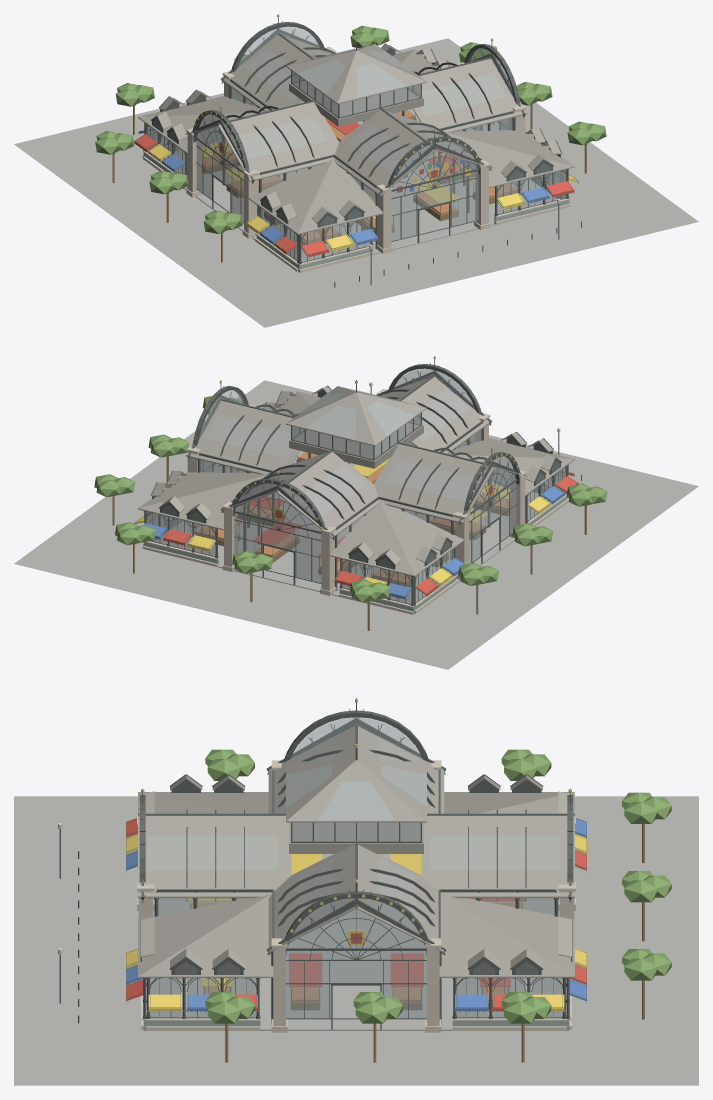
The model's file is clay-modernista-market-hall-clay-v001.glb.
The picture shows the model from 3 angles, top to bottom: view 1: azimuth 30°, elevation 25°; view 2: azimuth 150°, elevation 25°; view 3: azimuth 270°, elevation 25°; orthographic projection. The views are drawn at different scales.
Parts seen in each view (by area): view 1: CLAY_FOUNDATION, CLAY_ROOF, CLAY_GLASS, CLAY_HARDWARE, CLAY_STONE, CLAY_PLANTING, CLAY_AWNING_YELLOW, CLAY_PRODUCE, CLAY_TIMBER, CLAY_AWNING_RED, CLAY_AWNING_BLUE, CLAY_TILE; view 2: CLAY_FOUNDATION, CLAY_ROOF, CLAY_GLASS, CLAY_HARDWARE, CLAY_PLANTING, CLAY_STONE, CLAY_PRODUCE, CLAY_AWNING_RED, CLAY_TIMBER, CLAY_AWNING_YELLOW, CLAY_TILE, CLAY_AWNING_BLUE; view 3: CLAY_FOUNDATION, CLAY_ROOF, CLAY_GLASS, CLAY_HARDWARE, CLAY_PLANTING, CLAY_STONE, CLAY_AWNING_RED, CLAY_AWNING_YELLOW, CLAY_AWNING_BLUE, CLAY_TIMBER, CLAY_PRODUCE, CLAY_TILE.
Part boxes in pixels (x1,y1,x2,y2): CLAY_FOUNDATION: [14, 38, 698, 327]; CLAY_ROOF: [138, 34, 574, 234]; CLAY_GLASS: [146, 27, 566, 262]; CLAY_HARDWARE: [134, 14, 581, 287]; CLAY_STONE: [142, 46, 570, 272]; CLAY_PLANTING: [95, 25, 606, 233]; CLAY_AWNING_YELLOW: [148, 141, 578, 251]; CLAY_PRODUCE: [202, 110, 516, 242]; CLAY_TIMBER: [112, 102, 587, 262]; CLAY_AWNING_RED: [134, 117, 574, 257]; CLAY_AWNING_BLUE: [138, 129, 550, 245]; CLAY_TILE: [143, 140, 569, 271]; CLAY_FOUNDATION: [14, 380, 698, 669]; CLAY_ROOF: [138, 376, 574, 576]; CLAY_GLASS: [146, 369, 566, 604]; CLAY_HARDWARE: [134, 356, 581, 605]; CLAY_PLANTING: [94, 396, 607, 602]; CLAY_STONE: [142, 388, 569, 614]; CLAY_PRODUCE: [196, 452, 510, 584]; CLAY_AWNING_RED: [162, 471, 578, 596]; CLAY_TIMBER: [112, 456, 587, 630]; CLAY_AWNING_YELLOW: [134, 459, 551, 586]; CLAY_TILE: [143, 482, 569, 613]; CLAY_AWNING_BLUE: [143, 486, 564, 599]; CLAY_FOUNDATION: [14, 796, 698, 1085]; CLAY_ROOF: [138, 726, 574, 977]; CLAY_GLASS: [147, 717, 562, 1018]; CLAY_HARDWARE: [59, 698, 586, 1029]; CLAY_PLANTING: [205, 749, 671, 1023]; CLAY_STONE: [137, 760, 575, 1032]; CLAY_AWNING_RED: [126, 818, 586, 1011]; CLAY_AWNING_YELLOW: [126, 834, 586, 1011]; CLAY_AWNING_BLUE: [126, 818, 586, 1011]; CLAY_TIMBER: [190, 824, 644, 1062]; CLAY_PRODUCE: [191, 902, 521, 1001]; CLAY_TILE: [143, 1019, 569, 1029].
Bounding box in the file's own units: 74 × 23.6 × 74.
